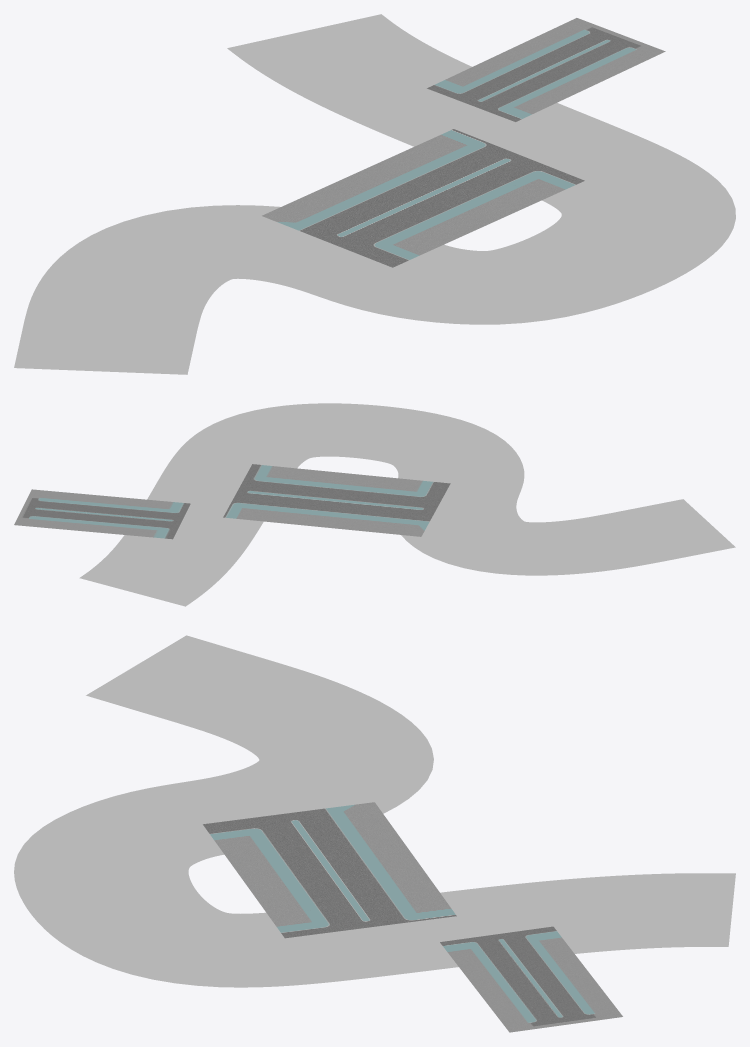
File: Ground_Road04.fbx
3 views of the same model, one above another, from view 1: azimuth 30°, elevation 25°; view 2: azimuth 150°, elevation 25°; view 3: azimuth 270°, elevation 25° (orthographic). The views are drawn at different scales.
Visible parts, largest first — view 1: Plane.016; view 2: Plane.016; view 3: Plane.016.
Boxes of the visible parts, box(x1,y1,x2,y2) form: Plane.016: box(14, 14, 735, 374); Plane.016: box(14, 403, 735, 606); Plane.016: box(14, 635, 735, 1032).
Bounding box in the file's own units: 8100 × 0.000478 × 6221.
